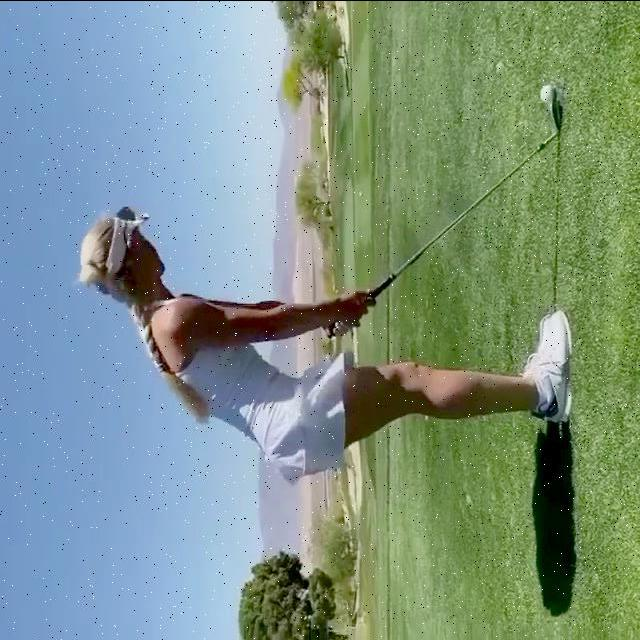golf ball: (541, 84, 553, 101)
golf club-handle: (328, 87, 562, 336)
golf club-head: (550, 88, 562, 130)
